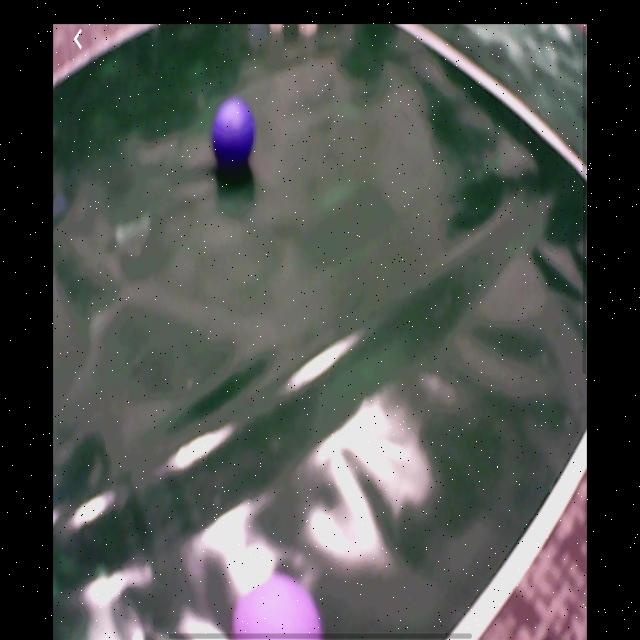ball: (231, 571, 325, 638), (213, 99, 256, 164)
